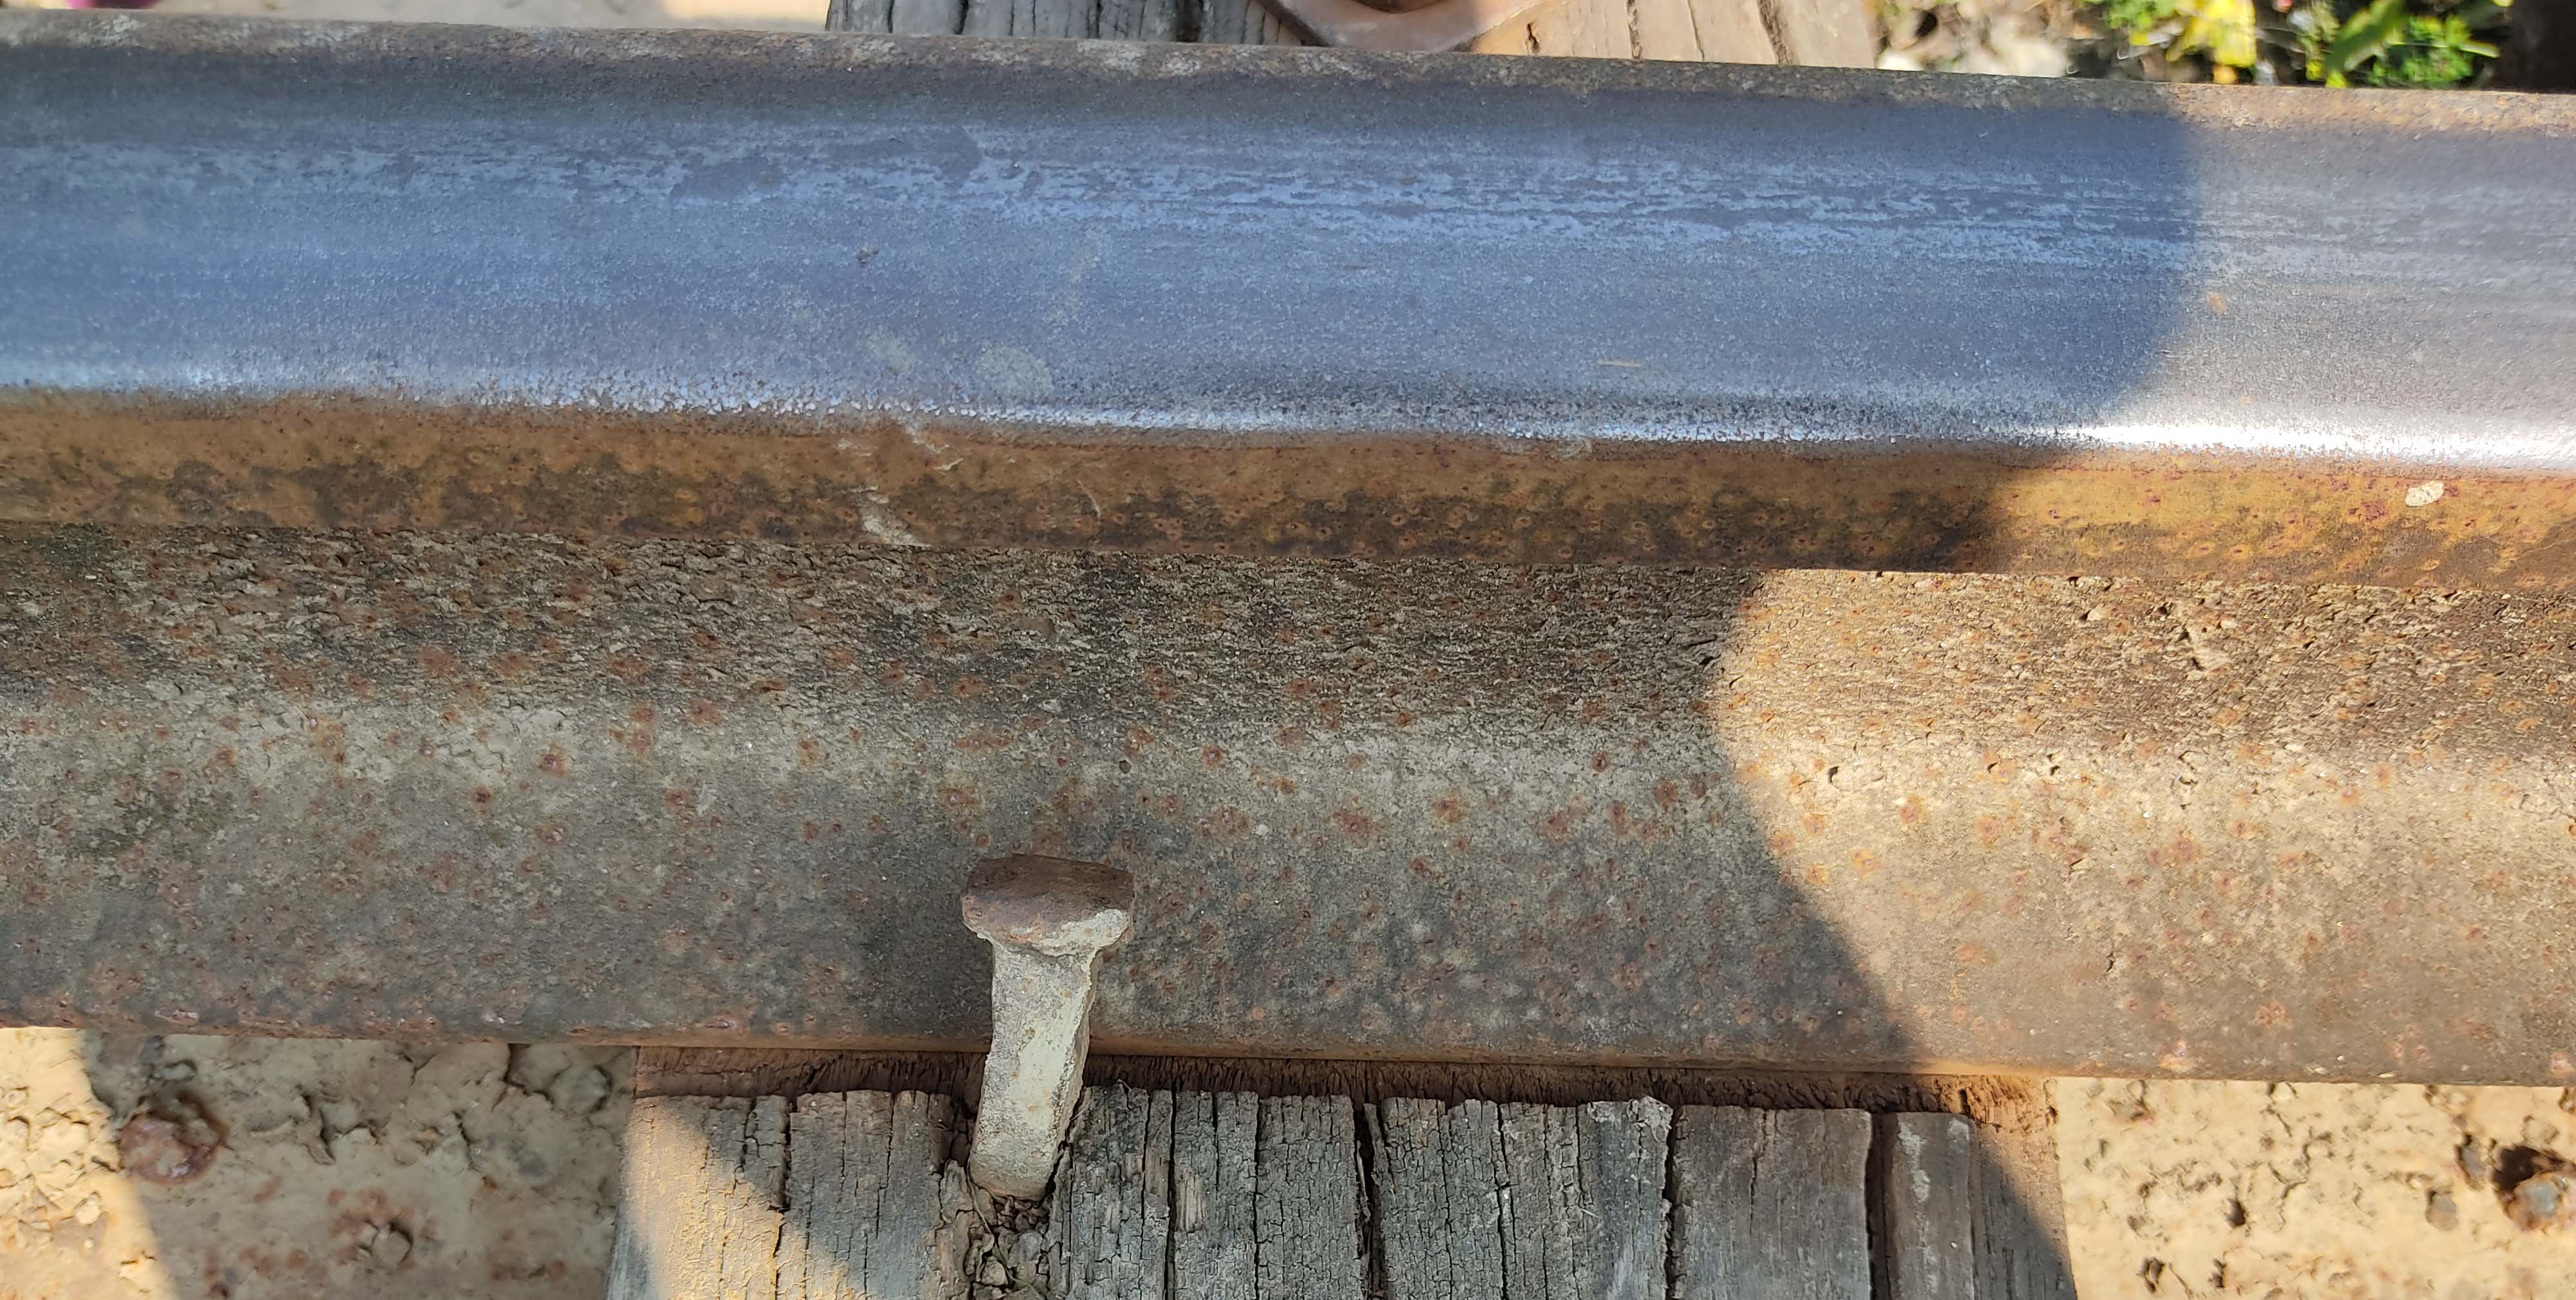error1: (902, 784, 1194, 1250)
